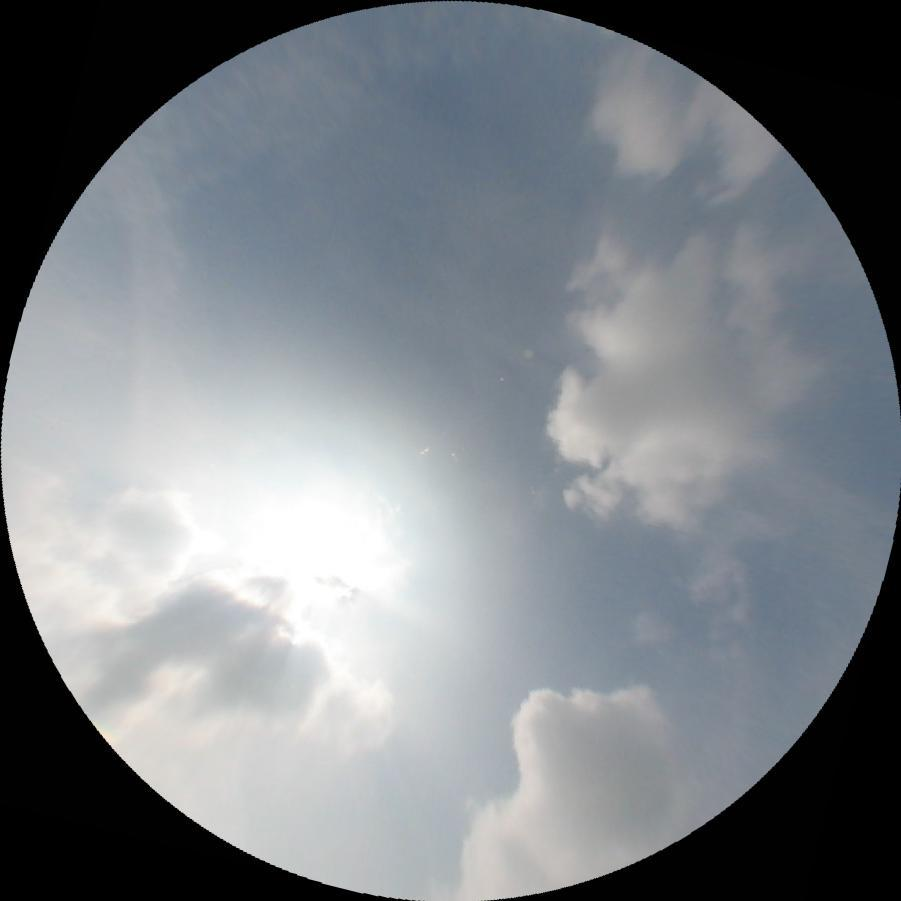sun: (228, 452, 425, 616)
